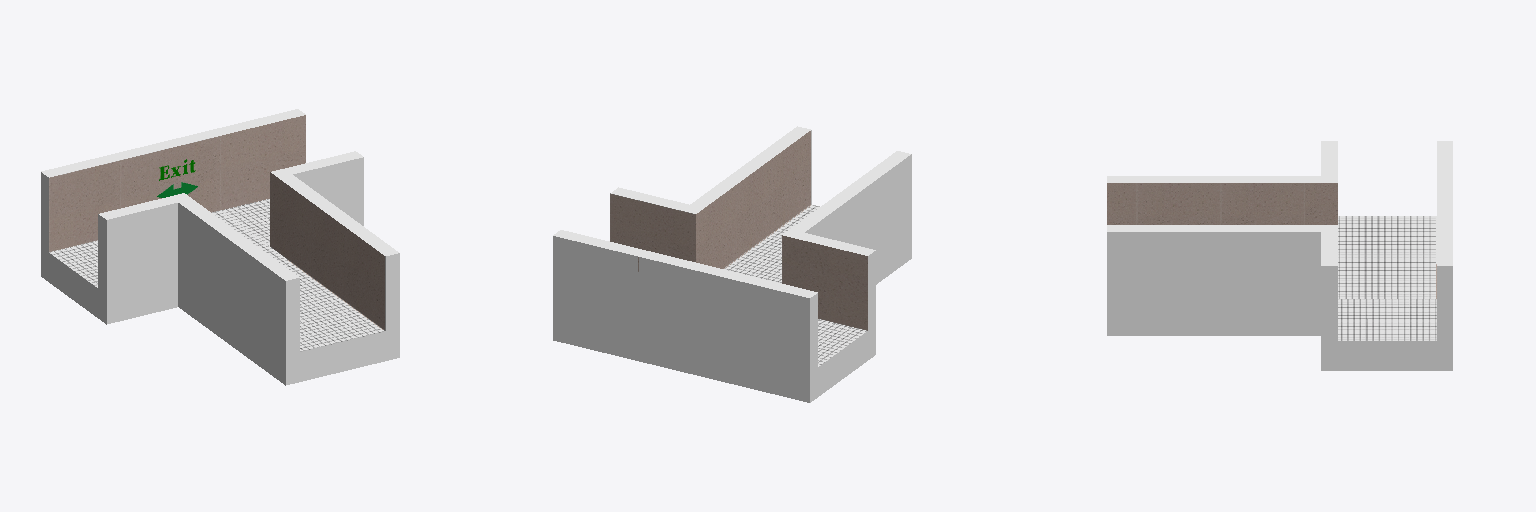
3 views of the same model, side by side, from view 1: azimuth 30°, elevation 25°; view 2: azimuth 150°, elevation 25°; view 3: azimuth 270°, elevation 25° (orthographic).
Parts seen in each view (by area): view 1: Cube.008; view 2: Cube.008; view 3: Cube.008.
Part boxes in pixels (x1,y1,x2,y2): Cube.008: (41,109,399,385); Cube.008: (553,126,911,402); Cube.008: (1107,141,1452,370).
Bounding box in the file's own units: 18.02 × 7 × 21.
1 materials, 1 textured.